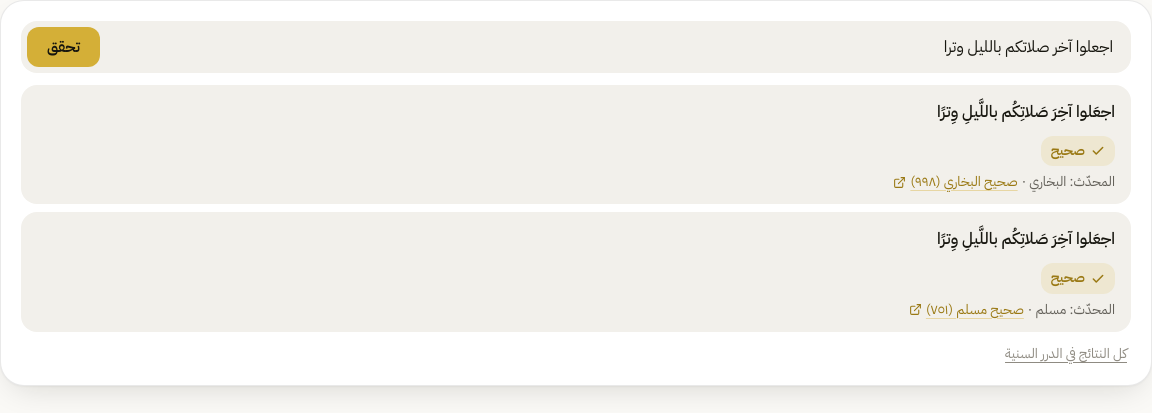
Scenario: HadithChecker › keeps a grade that is neither plainly sound nor weak grey, never gold
Step 1. Replace the text in the field named "جزء من نص الحديث" with "من حدث عني بحديث" → [616, 47], box x1=108 y1=27 x2=1125 y2=67
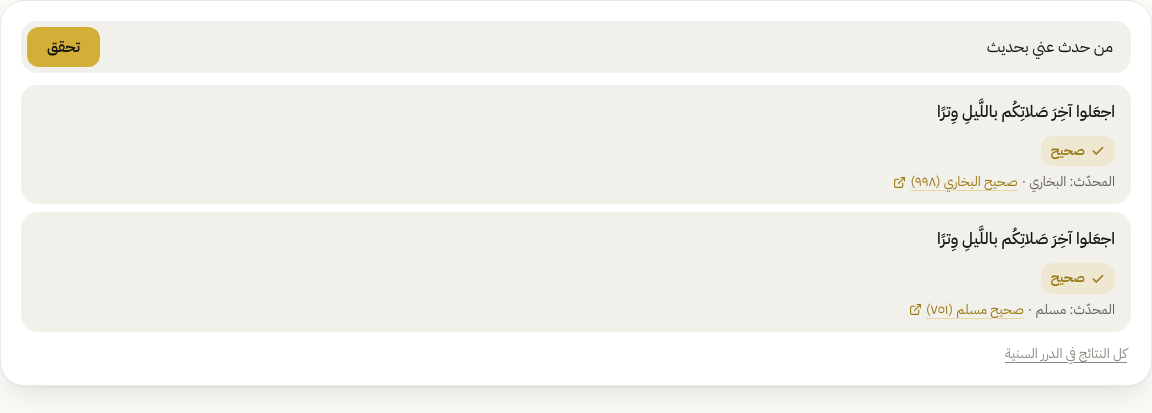
Step 2. Click the button "تحقق" → [63, 47], box x1=27 y1=27 x2=100 y2=67
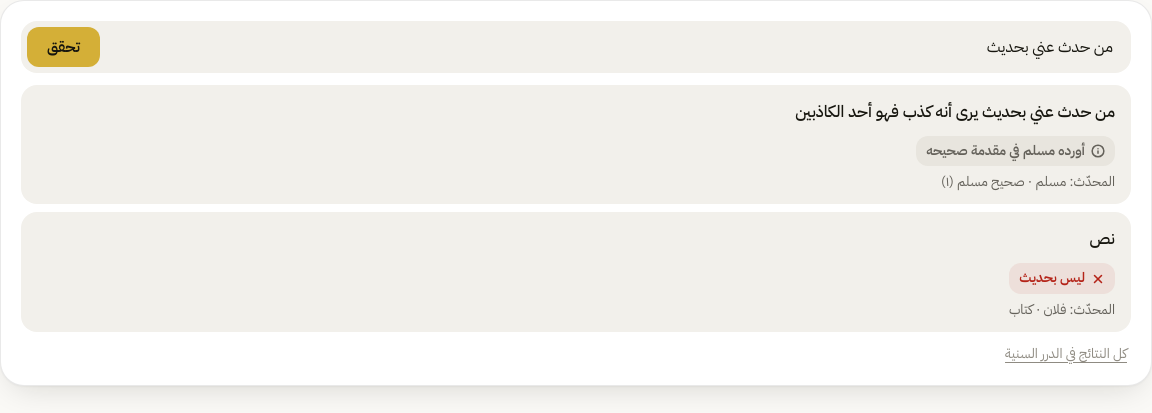
Expected: the text "أورده مسلم في مقدمة صحيحه" is shown, x1=926 y1=140 x2=1085 y2=162
